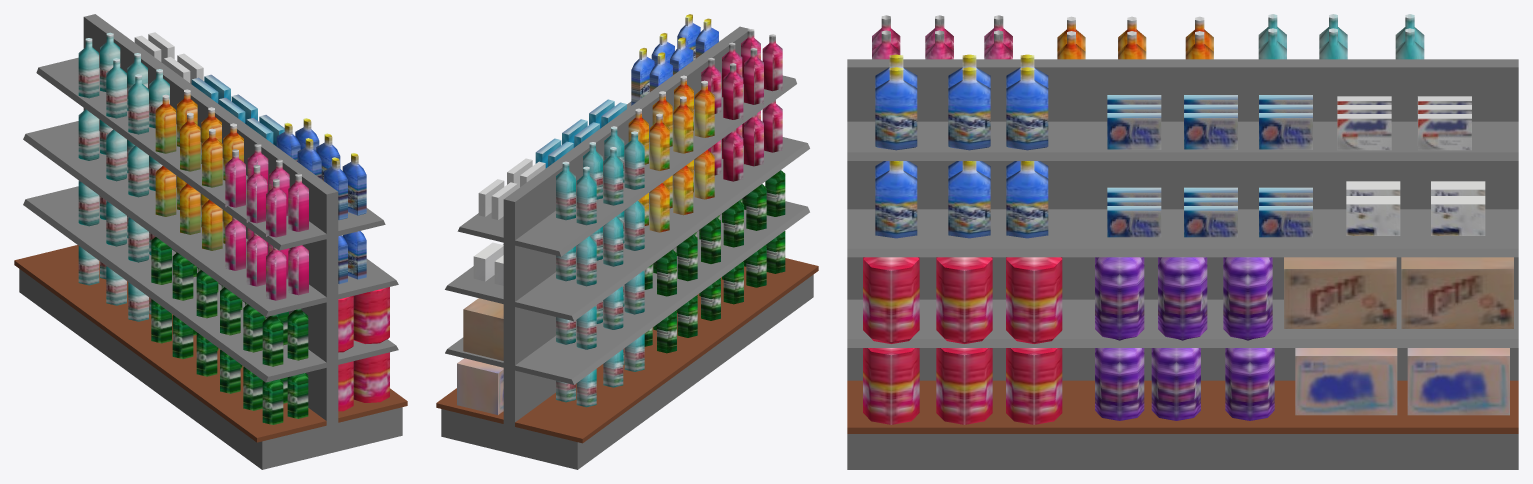
Rendered from laundry_shelf.glb.
3 renders of one model, left to right at view 1: azimuth 30°, elevation 25°; view 2: azimuth 150°, elevation 25°; view 3: azimuth 270°, elevation 25°, orthographic. The views are drawn at different scales.
Visible parts, largest first — view 1: laundry_shelf, Cylinder.360, Cylinder.366, Cylinder.300, Cylinder.295, Cylinder.298, Cylinder.296, Cylinder.349, Cylinder.293, Cylinder.291, Cylinder.020, Cylinder.313 (+49 smaller); view 2: laundry_shelf, Cube.296, Cube.295, Cylinder.298, Cylinder.296, Cylinder.300, Cylinder.293, Cylinder.291, Cylinder.295, Cylinder.299, Cylinder.284, Cylinder.290 (+47 smaller); view 3: laundry_shelf, Cube.090, Cube.295, Cube.091, Cube.296, Cylinder.361, Cylinder.360, Cylinder.362, Cylinder.367, Cylinder.366, Cylinder.368, Cylinder.373 (+23 smaller).
Boxes of the visible parts, x1,y1,x2,y2 form: laundry_shelf: [14, 14, 407, 469]; Cylinder.360: [353, 287, 389, 343]; Cylinder.366: [353, 352, 389, 402]; Cylinder.300: [78, 38, 99, 98]; Cylinder.295: [155, 94, 176, 153]; Cylinder.298: [106, 58, 126, 118]; Cylinder.296: [128, 74, 148, 134]; Cylinder.349: [342, 153, 366, 215]; Cylinder.293: [180, 112, 200, 171]; Cylinder.291: [202, 128, 222, 187]; Cylinder.020: [287, 308, 308, 360]; Cylinder.313: [262, 315, 283, 366]; laundry_shelf: [436, 26, 818, 469]; Cube.296: [457, 358, 503, 414]; Cube.295: [463, 298, 503, 360]; Cylinder.298: [603, 147, 623, 205]; Cylinder.296: [624, 131, 644, 189]; Cylinder.300: [576, 166, 596, 225]; Cylinder.293: [673, 96, 693, 153]; Cylinder.291: [694, 80, 714, 137]; Cylinder.295: [649, 113, 669, 170]; Cylinder.299: [556, 161, 575, 220]; Cylinder.284: [723, 63, 743, 119]; Cylinder.290: [723, 129, 743, 181]; laundry_shelf: [847, 59, 1518, 469]; Cube.090: [1284, 257, 1396, 328]; Cube.295: [1401, 257, 1513, 328]; Cube.091: [1295, 348, 1397, 415]; Cube.296: [1407, 348, 1509, 415]; Cylinder.361: [936, 257, 992, 343]; Cylinder.360: [863, 257, 919, 343]; Cylinder.362: [1006, 257, 1062, 343]; Cylinder.367: [936, 348, 992, 424]; Cylinder.366: [863, 348, 919, 424]; Cylinder.368: [1006, 348, 1062, 424]; Cylinder.373: [1223, 257, 1272, 340].
Bounding box in the file's own units: 4.74 × 8.26 × 13.21.
4 materials, 2 textured.
